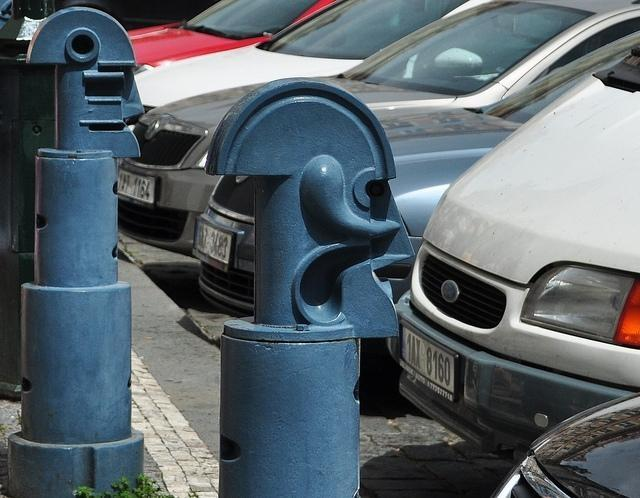car: (197, 27, 640, 311), (130, 0, 638, 235), (397, 41, 640, 454), (126, 2, 476, 136), (126, 0, 336, 65), (499, 396, 640, 492)
